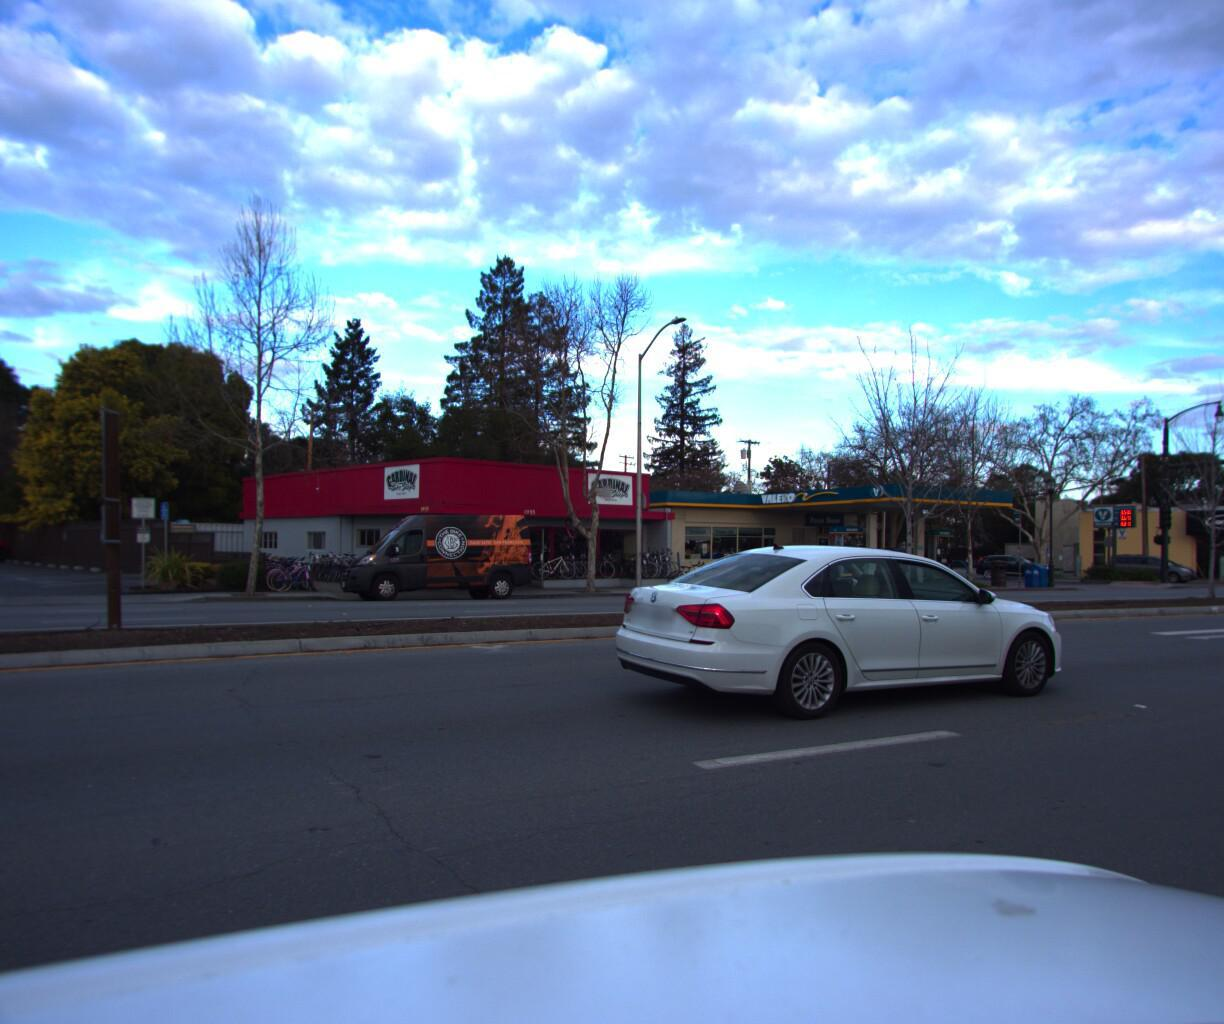bicycle: (222, 545, 291, 588), (263, 548, 327, 589), (257, 548, 321, 588), (314, 547, 366, 580), (297, 547, 348, 580), (302, 547, 353, 580), (308, 547, 359, 580), (669, 552, 709, 586), (612, 552, 650, 585), (619, 552, 657, 585), (642, 552, 681, 584), (626, 552, 664, 584), (635, 552, 673, 584)
car: (587, 538, 1075, 735), (729, 544, 831, 577), (1098, 545, 1195, 578), (969, 546, 1055, 575)
truck: (332, 504, 536, 599)
